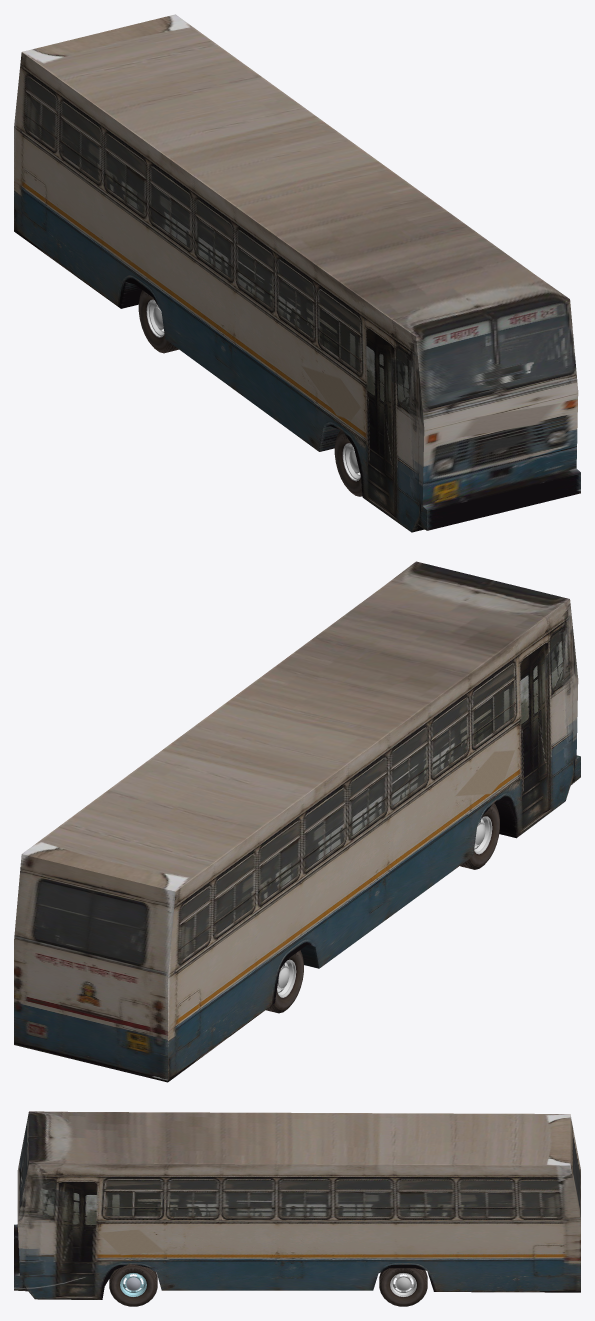
File: bus.glb
The picture shows the model from 3 angles, top to bottom: view 1: azimuth 30°, elevation 25°; view 2: azimuth 150°, elevation 25°; view 3: azimuth 270°, elevation 25°; orthographic projection. The views are drawn at different scales.
Parts seen in each view (by area): view 1: Object_4, Object_24; view 2: Object_4, Object_24, Object_16; view 3: Object_4, Object_20, Object_6, Object_22, Object_12, Object_8, Object_10.
Part boxes in pixels (x1,y1,x2,y2): Object_4: (14, 14, 580, 532); Object_24: (334, 432, 361, 493); Object_4: (14, 561, 580, 1082); Object_24: (470, 805, 499, 866); Object_16: (274, 951, 303, 1010); Object_4: (14, 1111, 580, 1299); Object_20: (111, 1266, 155, 1305); Object_6: (381, 1268, 425, 1305); Object_22: (120, 1273, 146, 1296); Object_12: (390, 1273, 416, 1296); Object_8: (109, 1264, 157, 1306); Object_10: (379, 1268, 427, 1306).
Bounding box in the file's own units: 0.4304 × 0.5766 × 2.
5 materials, 4 textured.
